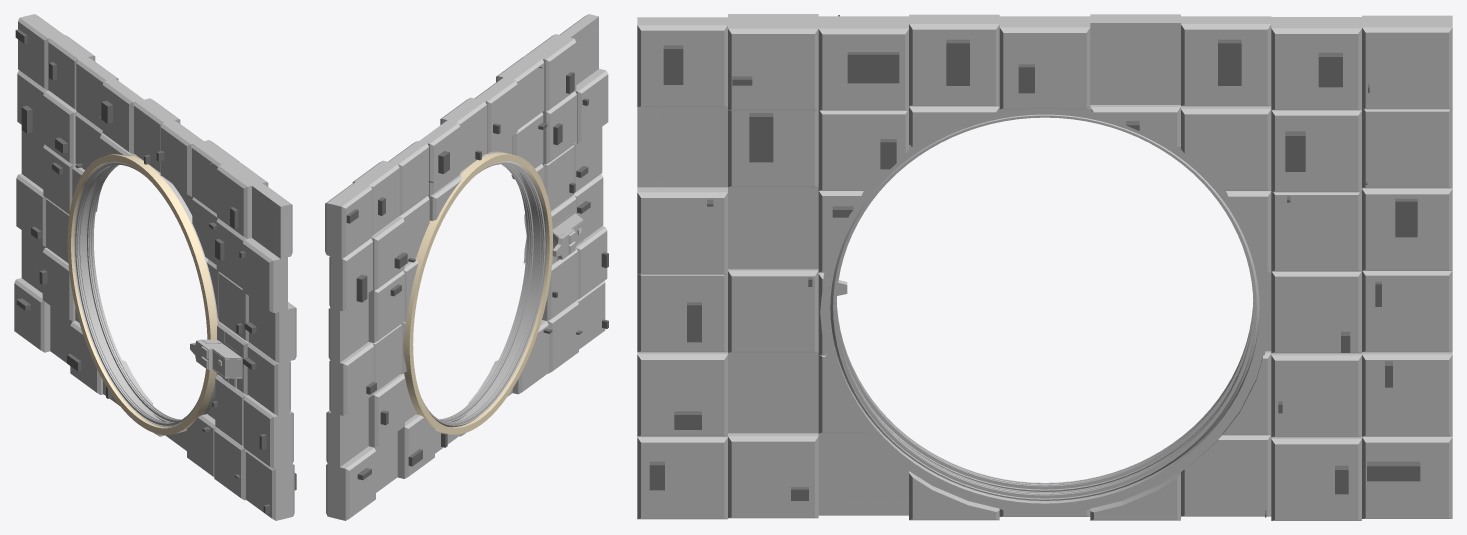
The model's file is Airlock_FBX.fbx.
3 views of the same model, side by side, from view 1: azimuth 30°, elevation 25°; view 2: azimuth 150°, elevation 25°; view 3: azimuth 270°, elevation 25° (orthographic). The views are drawn at different scales.
Visible parts, largest first — view 1: Airlock; view 2: Airlock; view 3: Airlock.
Part boxes in pixels (x1,y1,x2,y2): Airlock: (14, 14, 296, 520); Airlock: (325, 14, 608, 520); Airlock: (637, 14, 1452, 520).
Size of the model in its own units: 32.54 by 200 by 300.
